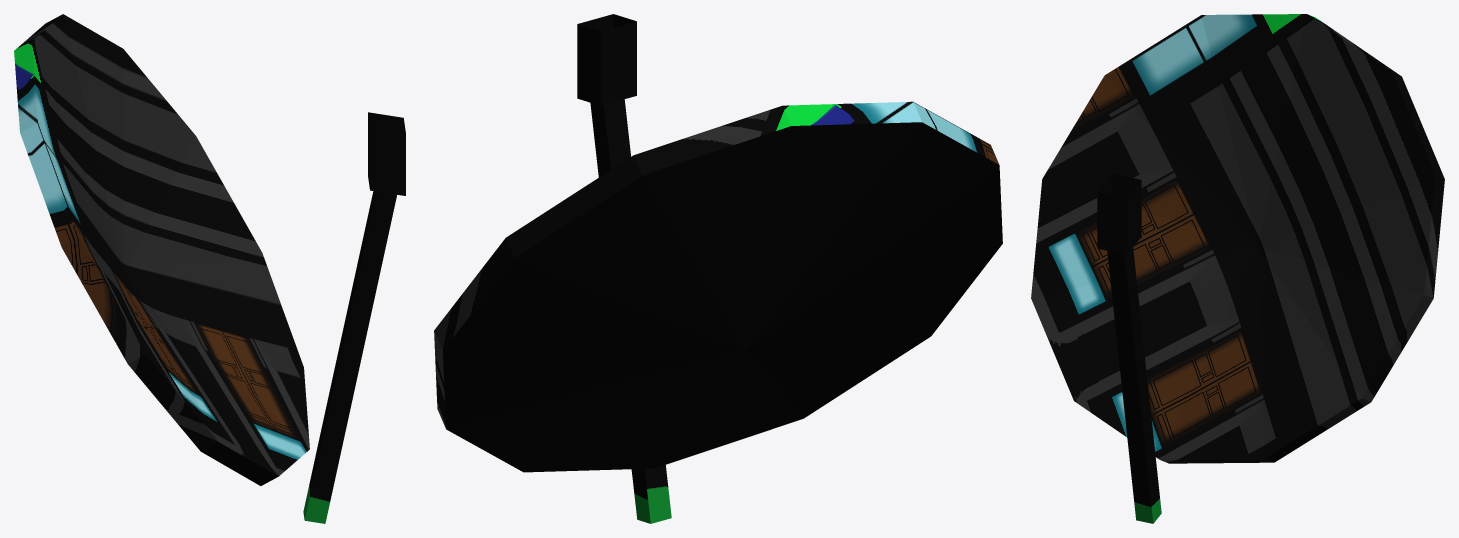
File: Me_SatelideDish.fbx
3 renders of one model, left to right at view 1: azimuth 30°, elevation 25°; view 2: azimuth 150°, elevation 25°; view 3: azimuth 270°, elevation 25°, orthographic. The views are drawn at different scales.
Parts seen in each view (by area): view 1: Cube.001; view 2: Cube.001; view 3: Cube.001.
Part boxes in pixels (x1,y1,x2,y2): Cube.001: (14, 14, 405, 523); Cube.001: (434, 14, 1002, 523); Cube.001: (1031, 14, 1444, 523).
Bounding box in the file's own units: 76.67 × 96.97 × 86.95.
